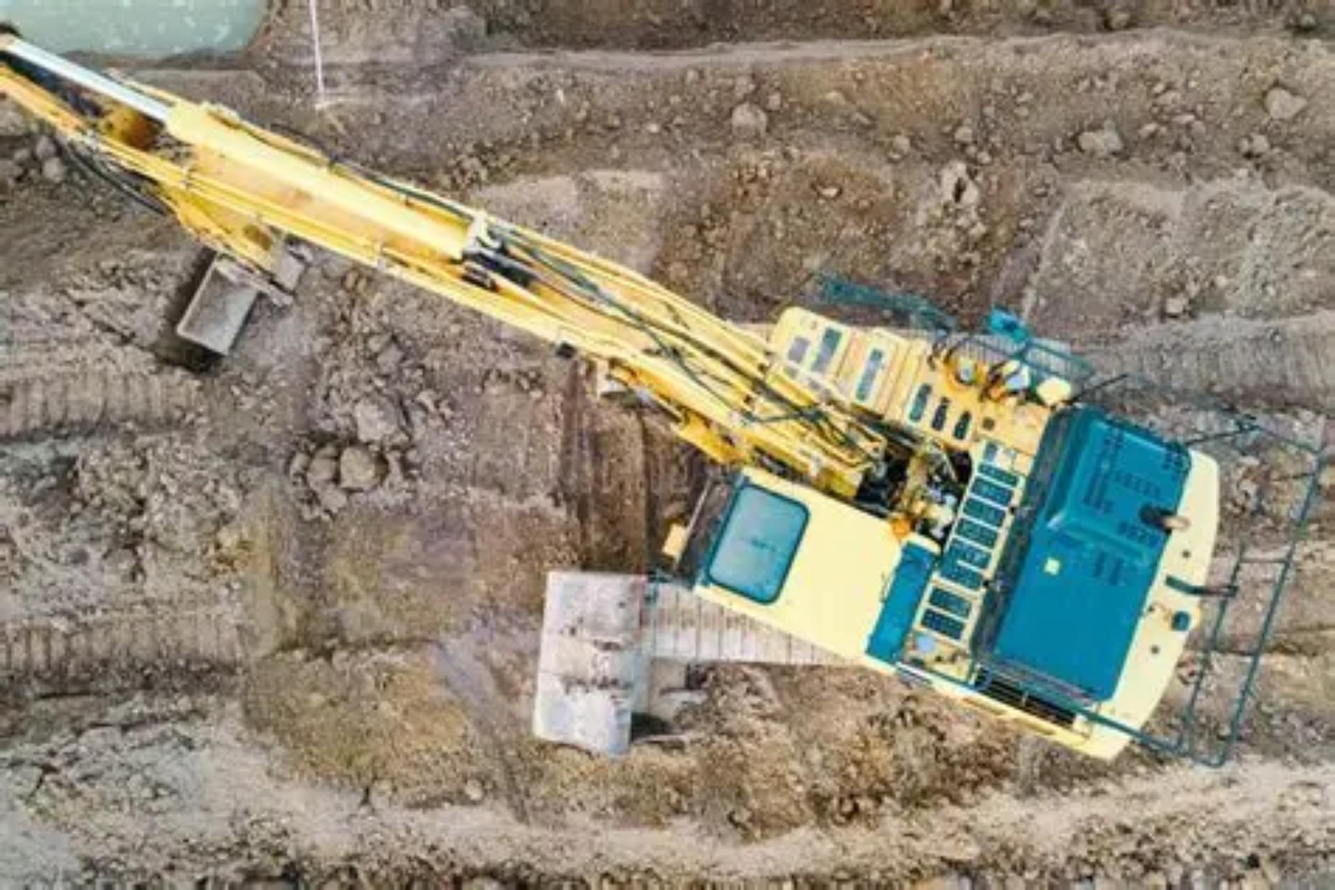excavator: (0, 25, 1229, 755)
